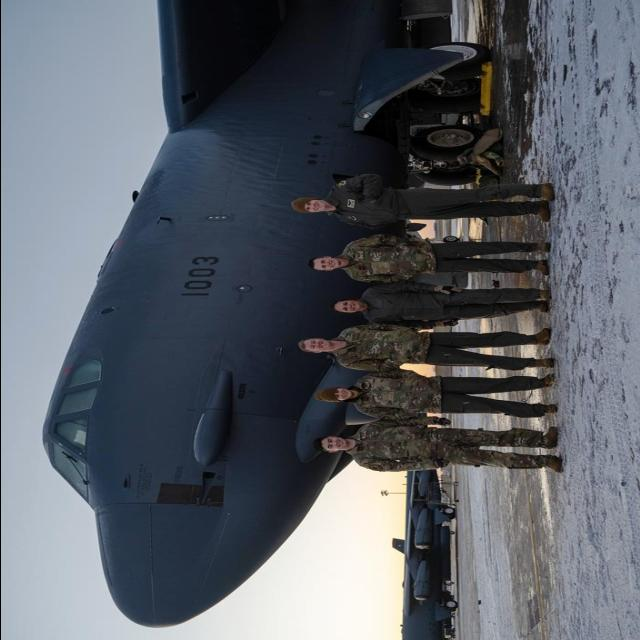B52: (26, 0, 527, 634)
